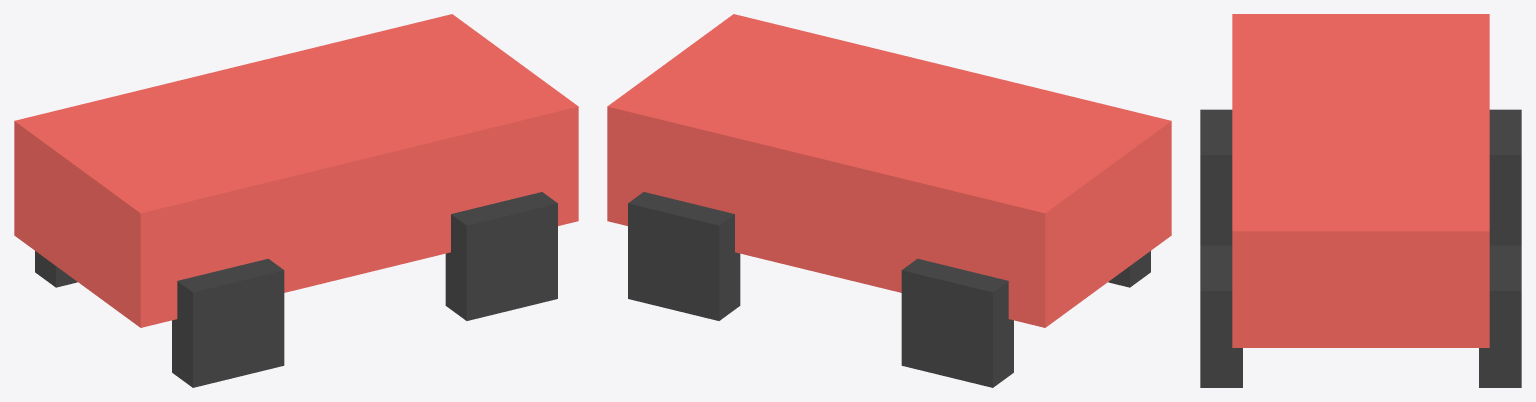
Rendered from loose_paint_toy.gltf.
3 views of the same model, side by side, from view 1: azimuth 30°, elevation 25°; view 2: azimuth 150°, elevation 25°; view 3: azimuth 270°, elevation 25° (orthographic).
Visible parts, largest first — view 1: Body, Wheels; view 2: Body, Wheels; view 3: Body, Wheels.
Boxes of the visible parts, x1,y1,x2,y2 form: Body: (14,14,578,327); Wheels: (35,192,557,387); Body: (607,14,1171,327); Wheels: (628,192,1150,387); Body: (1232,14,1489,347); Wheels: (1200,109,1521,387).
Bounding box in the file's own units: 2.4 × 0.9 × 1.5.
